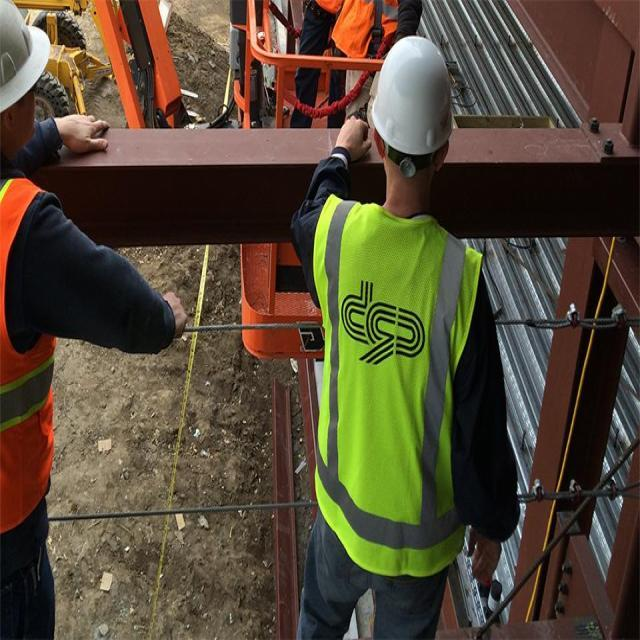reflective_jacket: (312, 195, 485, 579), (0, 168, 56, 542)
safety_helmet: (364, 29, 460, 160), (0, 0, 51, 119)
